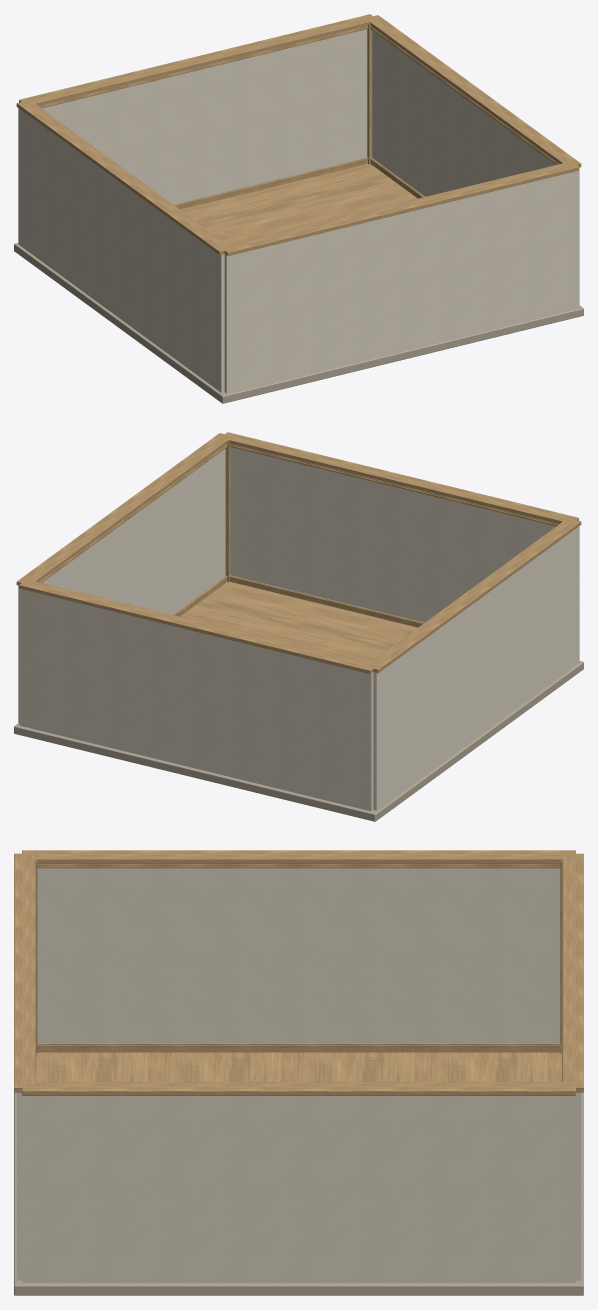
File: home-empty.glb
3 renders of one model, top to bottom at view 1: azimuth 30°, elevation 25°; view 2: azimuth 150°, elevation 25°; view 3: azimuth 270°, elevation 25°, orthographic. The views are drawn at different scales.
Visible parts, largest first — view 1: Wall_Plaster_detail_group (×8), Trim_Oak_detail_group (×5), Continuous_floor, Foundation, Oak_corner; view 2: Wall_Plaster_detail_group (×8), Trim_Oak_detail_group (×5), Continuous_floor, Foundation, Oak_corner; view 3: Wall_Plaster_detail_group (×6), Trim_Oak_detail_group (×5), Continuous_floor, Foundation.
Part boxes in pixels (x1=…): Wall_Plaster_detail_group (×8): x1=18, y1=29, x2=579, y2=393; Trim_Oak_detail_group (×5): x1=16, y1=14, x2=581, y2=255; Continuous_floor: x1=180, y1=163, x2=417, y2=244; Foundation: x1=14, y1=243, x2=583, y2=403; Oak_corner: x1=367, y1=22, x2=372, y2=158; Wall_Plaster_detail_group (×8): x1=18, y1=447, x2=579, y2=811; Trim_Oak_detail_group (×5): x1=16, y1=432, x2=581, y2=673; Continuous_floor: x1=180, y1=581, x2=417, y2=662; Foundation: x1=14, y1=661, x2=583, y2=821; Oak_corner: x1=225, y1=440, x2=230, y2=576; Wall_Plaster_detail_group (×6): x1=16, y1=868, x2=581, y2=1282; Trim_Oak_detail_group (×5): x1=14, y1=850, x2=583, y2=1095; Continuous_floor: x1=36, y1=1052, x2=561, y2=1081; Foundation: x1=14, y1=1092, x2=583, y2=1295.
Bounding box in the file's own units: 8.56 × 3.4 × 8.56.
4 materials, 3 textured.
